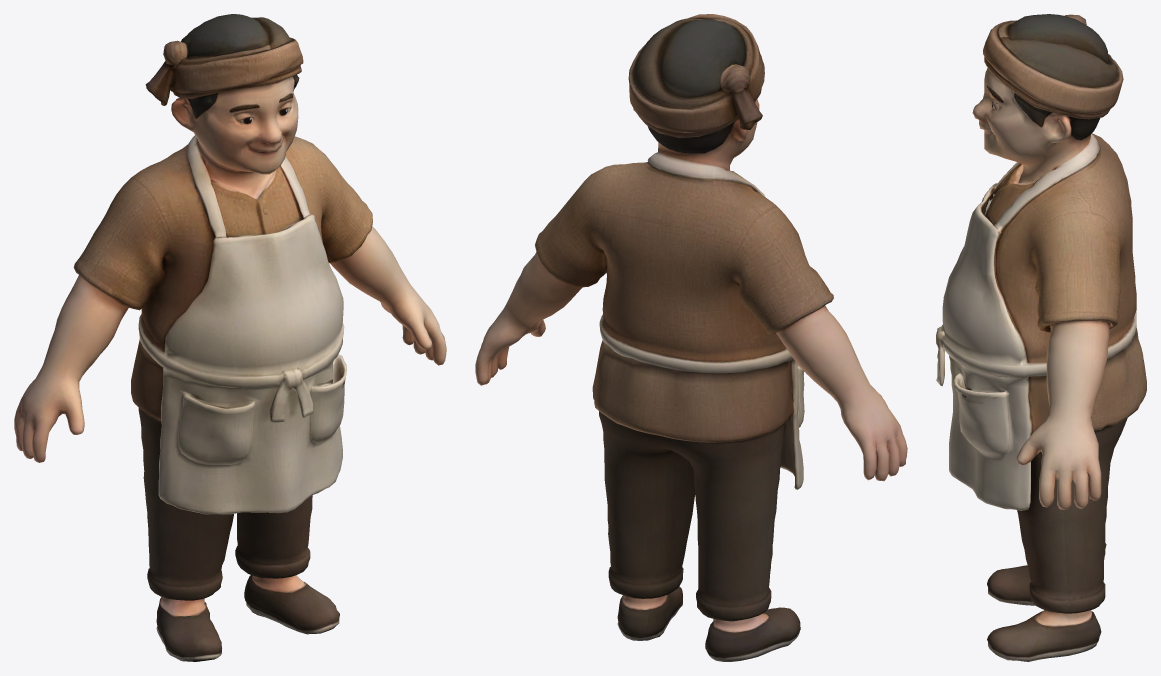
The model's file is bac-an.62caa00a.glb.
3 renders of one model, left to right at view 1: azimuth 30°, elevation 25°; view 2: azimuth 150°, elevation 25°; view 3: azimuth 270°, elevation 25°, orthographic.
Parts seen in each view (by area): view 1: tripo_node_a34addcf-4d7d-4306-ab70-343d9b08ec8b; view 2: tripo_node_a34addcf-4d7d-4306-ab70-343d9b08ec8b; view 3: tripo_node_a34addcf-4d7d-4306-ab70-343d9b08ec8b.
Boxes of the visible parts, <box> form: tripo_node_a34addcf-4d7d-4306-ab70-343d9b08ec8b: <box>14,14,446,661</box>; tripo_node_a34addcf-4d7d-4306-ab70-343d9b08ec8b: <box>475,14,907,661</box>; tripo_node_a34addcf-4d7d-4306-ab70-343d9b08ec8b: <box>936,14,1146,661</box>.
Bounding box in the file's own units: 0.6983 × 0.9775 × 0.3099.
Materials: 1 (1 with a texture image).
